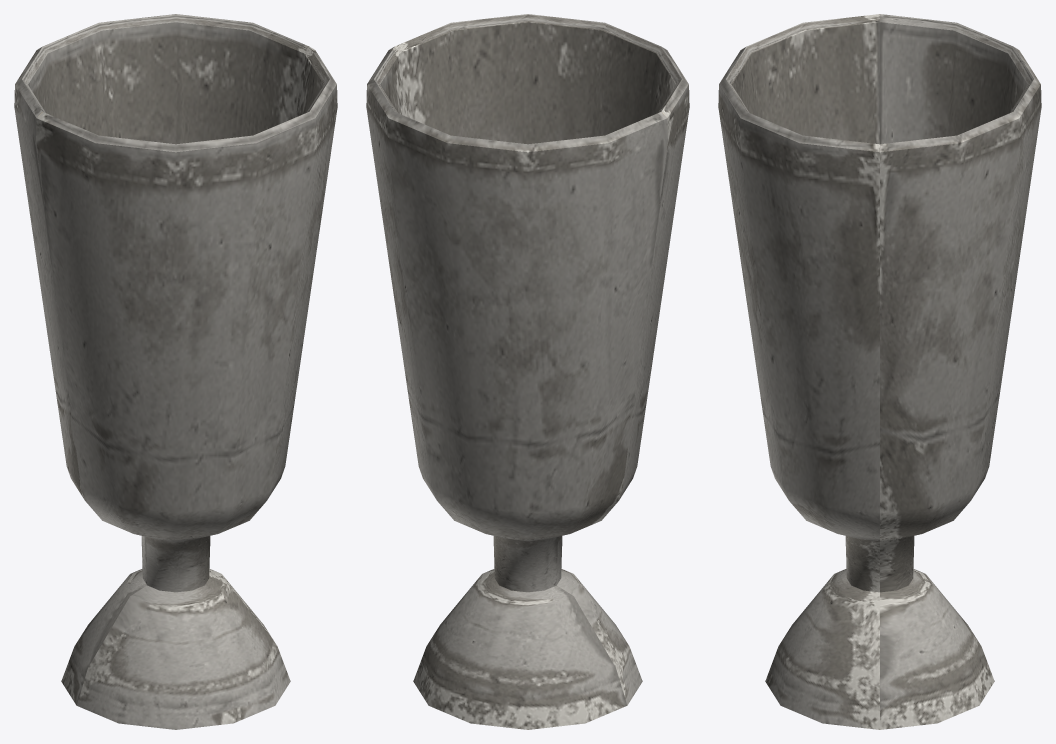
File: copaGenerica5.FBX
The picture shows the model from 3 angles, left to right: view 1: azimuth 30°, elevation 25°; view 2: azimuth 150°, elevation 25°; view 3: azimuth 270°, elevation 25°; orthographic projection.
Visible parts, largest first — view 1: copaGenerica5; view 2: copaGenerica5; view 3: copaGenerica5.
Part boxes in pixels (left/top/right/bottom): copaGenerica5: left=14, top=14, right=337, bottom=729; copaGenerica5: left=366, top=14, right=689, bottom=729; copaGenerica5: left=718, top=14, right=1041, bottom=729.
Bounding box in the file's own units: 61.23 × 126 × 61.23.
